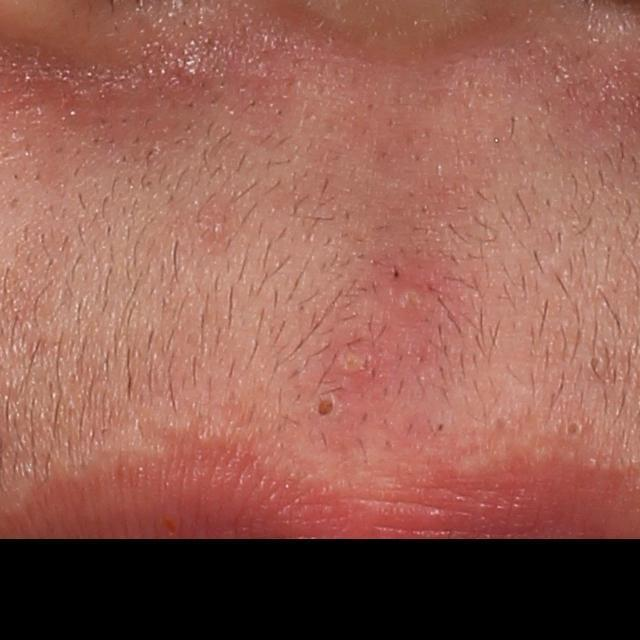comedo: (305, 386, 347, 427), (560, 411, 591, 442), (576, 353, 604, 377)
